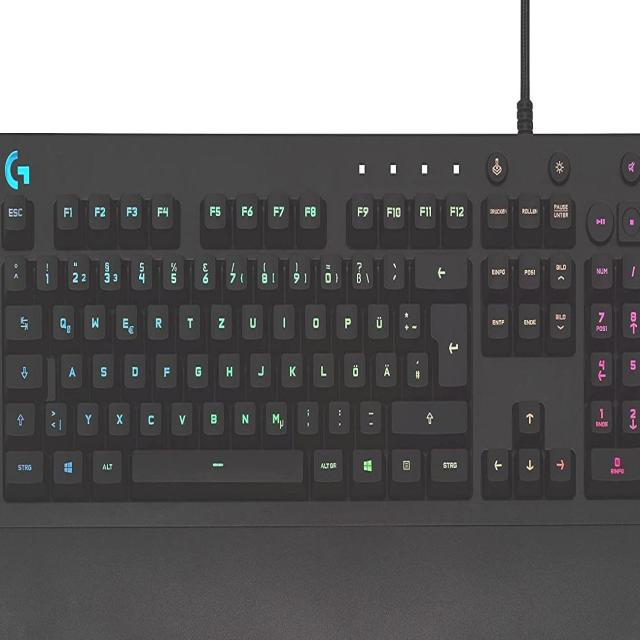0: (317, 249, 341, 289)
1: (34, 250, 57, 289)
2: (65, 249, 89, 290)
3: (96, 250, 121, 291)
4: (128, 250, 152, 290)
5: (161, 250, 185, 290)
6: (192, 250, 216, 289)
7: (223, 249, 247, 290)
8: (254, 249, 278, 291)
9: (285, 249, 310, 289)
a: (59, 349, 82, 386)
accent: (381, 248, 404, 287)
ae: (373, 347, 396, 385)
alt-left: (90, 446, 121, 482)
altgr-right: (310, 445, 342, 481)
b: (200, 397, 223, 433)
c: (137, 398, 161, 434)
caret: (2, 252, 25, 289)
comma: (295, 397, 317, 432)
d: (122, 349, 144, 386)
del: (412, 249, 466, 288)
e: (113, 300, 136, 339)
enter: (428, 297, 467, 386)
f: (153, 349, 176, 386)
g: (184, 349, 207, 386)
h: (216, 349, 239, 386)
hash: (404, 348, 427, 385)
i: (272, 300, 294, 337)
j: (248, 348, 270, 386)
k: (279, 348, 302, 386)
keyboard: (0, 136, 640, 535)
l: (310, 348, 333, 385)
less: (42, 398, 65, 434)
m: (262, 397, 287, 434)
minus: (358, 397, 381, 431)
n: (232, 397, 255, 433)
o: (302, 299, 325, 337)
oe: (342, 348, 365, 385)
p: (334, 299, 357, 337)
plus: (396, 298, 419, 337)
point: (327, 397, 349, 431)
q: (50, 300, 74, 338)
r: (145, 300, 168, 338)
s: (90, 349, 113, 386)
shift-left: (3, 399, 34, 434)
shift-lock: (4, 351, 43, 388)
shift-right: (389, 398, 467, 433)
space: (128, 445, 304, 482)
ss: (348, 248, 372, 289)
strg-left: (3, 446, 43, 483)
strg-right: (427, 444, 468, 481)
t: (177, 300, 200, 337)
tab: (3, 301, 42, 340)
u: (239, 300, 263, 337)
ue: (365, 299, 388, 336)
v: (169, 398, 192, 433)
w: (82, 299, 105, 338)
x: (106, 398, 129, 433)
y: (75, 398, 98, 434)
z: (208, 299, 231, 337)
